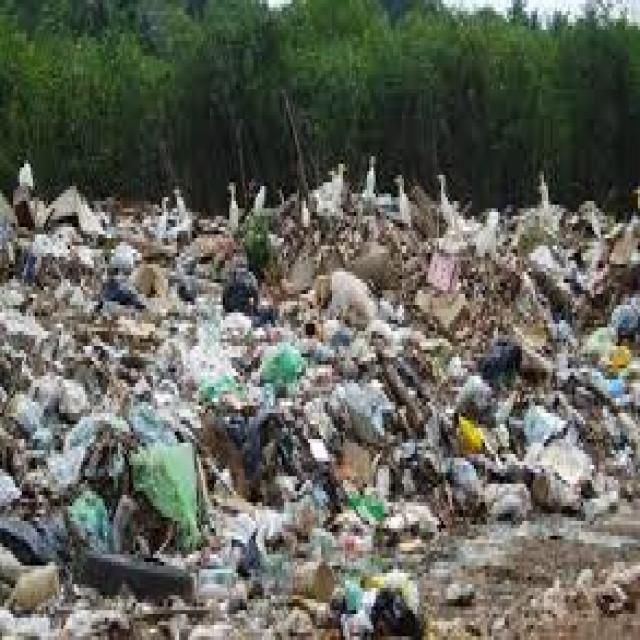plastic: (42, 251, 366, 608)
